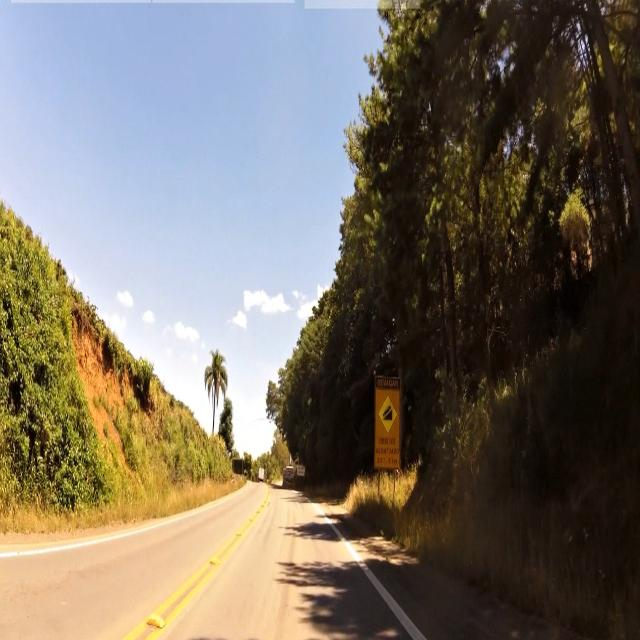A-20a: (381, 398, 398, 432)
